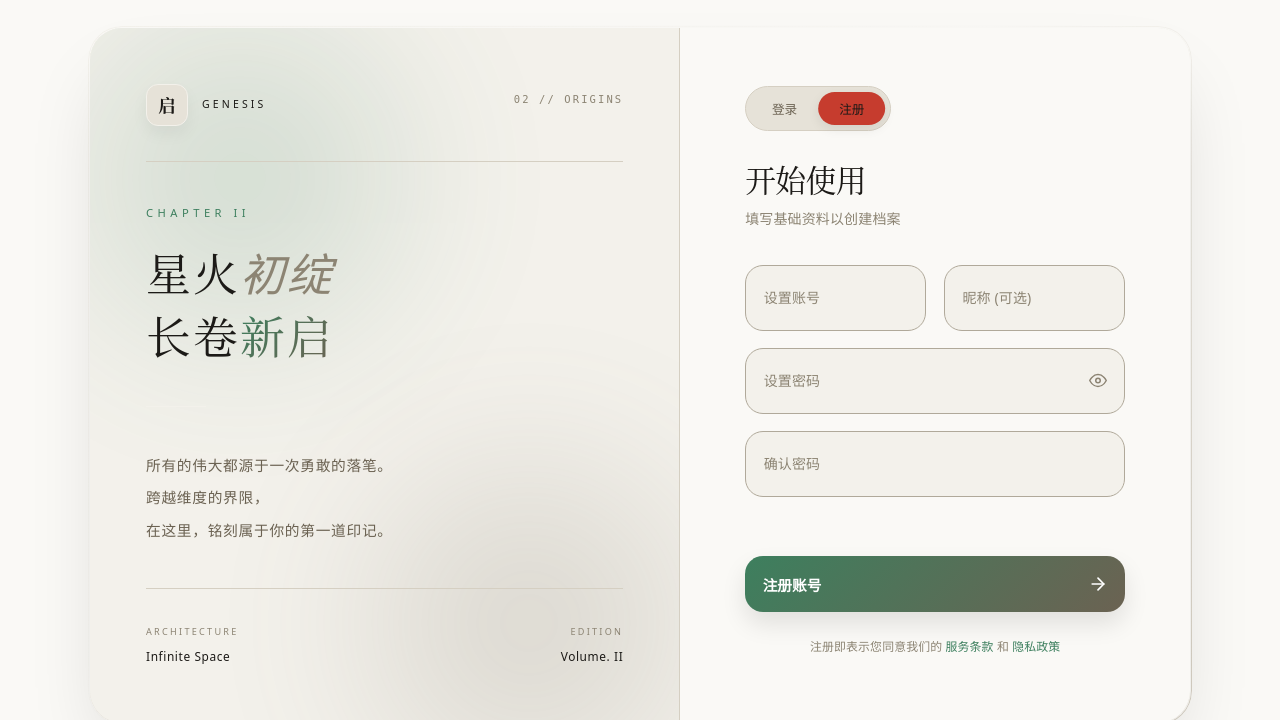
RegisterForm › surfaces the classified server message when registration fails
Type "alice" into the field next to "设置账号" at (836, 298), box [764,277,908,319]
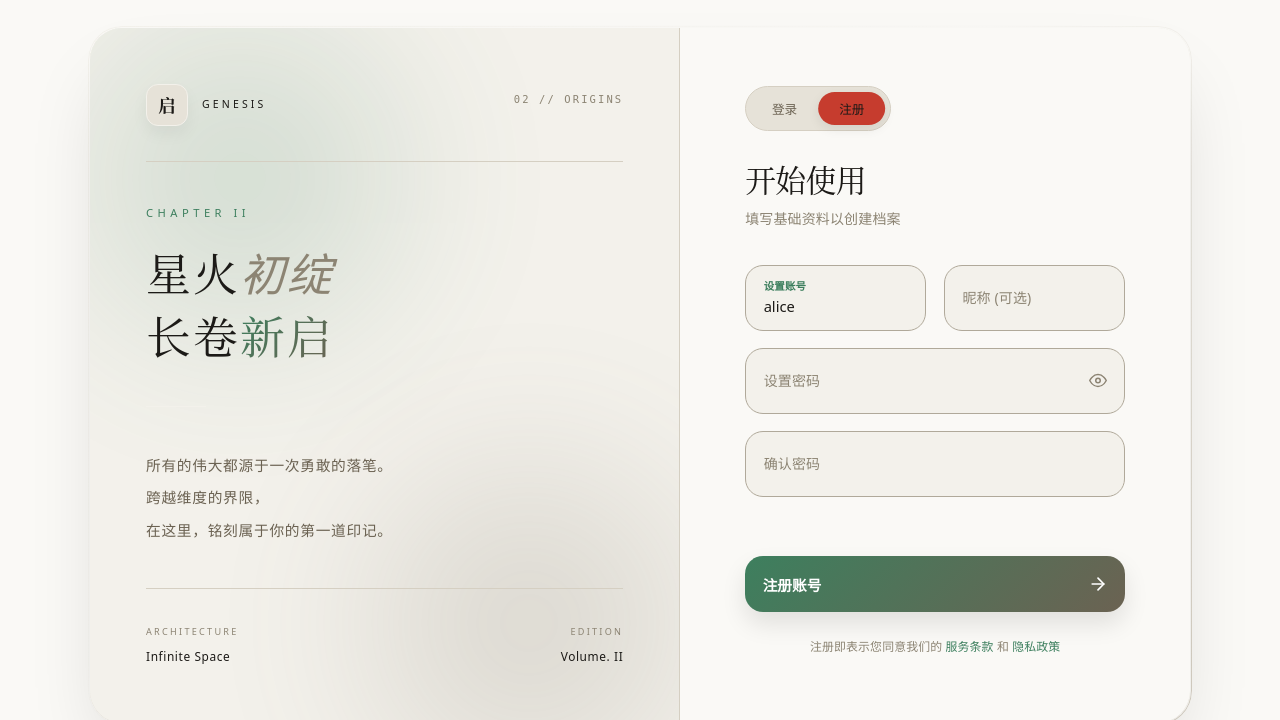
Type "password123" into the password field next to "设置密码" at (935, 381), box [764,360,1107,402]
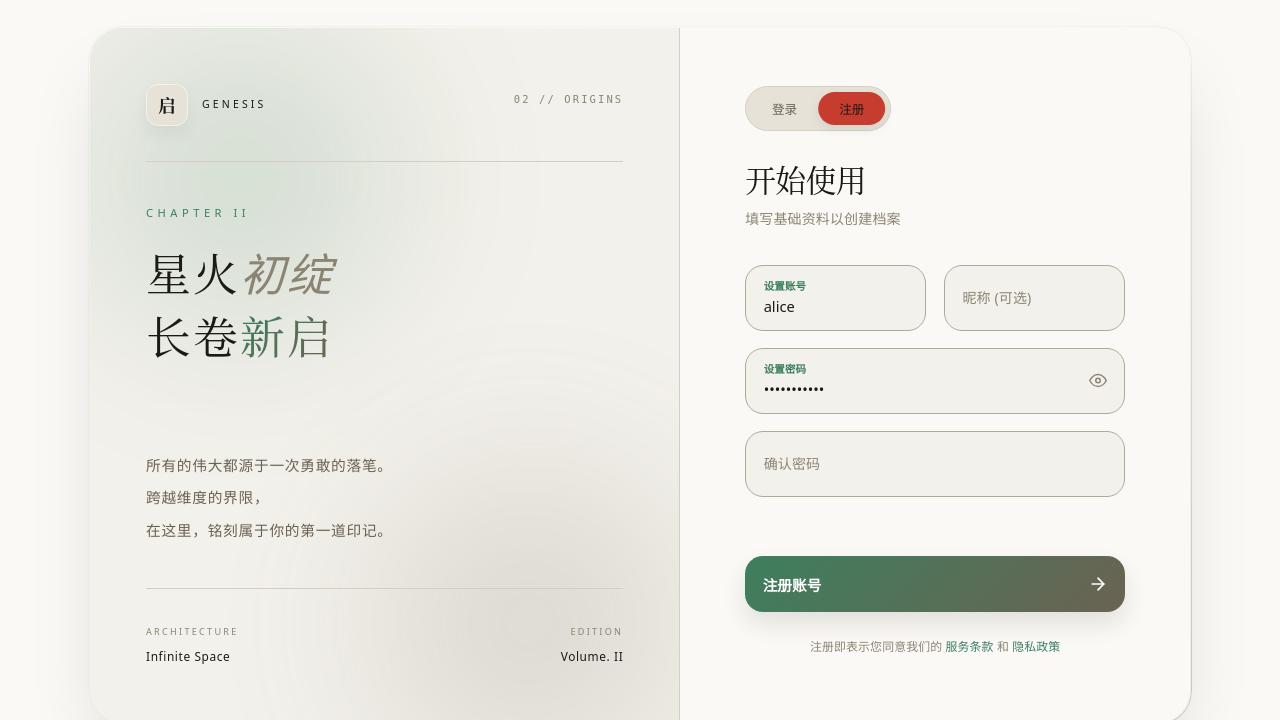
Type "password123" into the password field next to "确认密码" at (935, 464), box [764,443,1107,485]
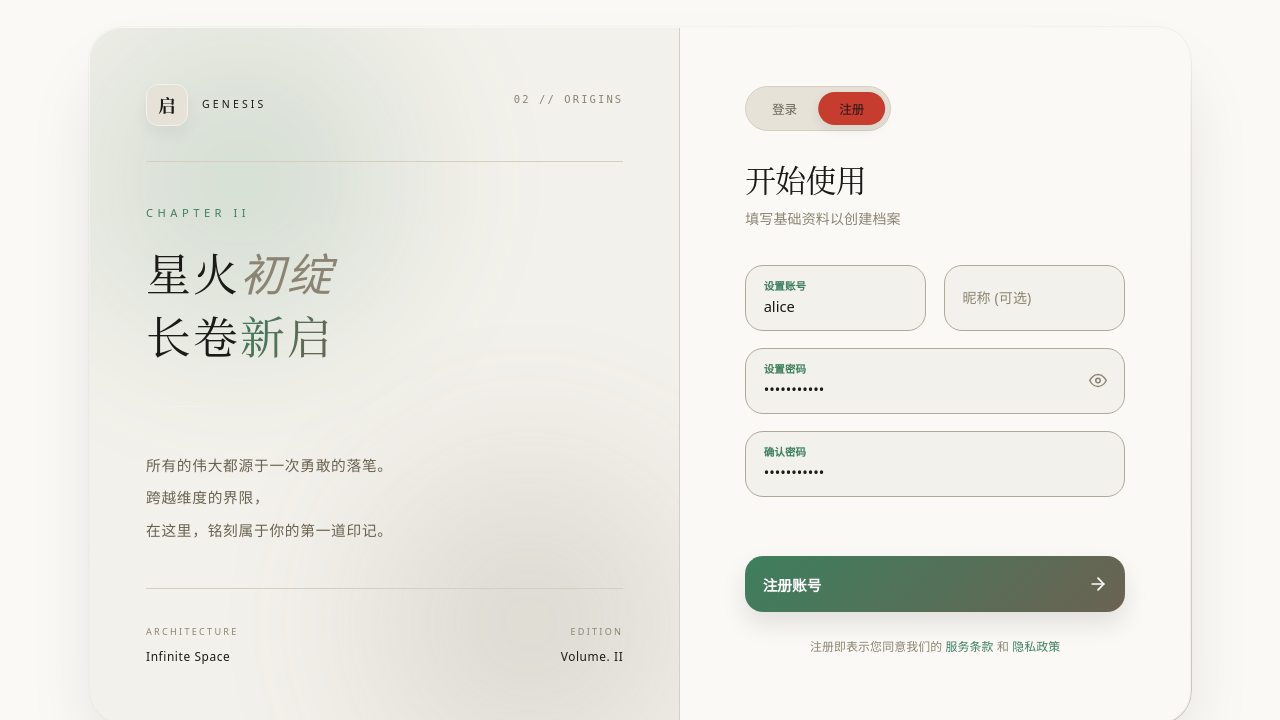
Submit the form, box [745,265,1125,665]
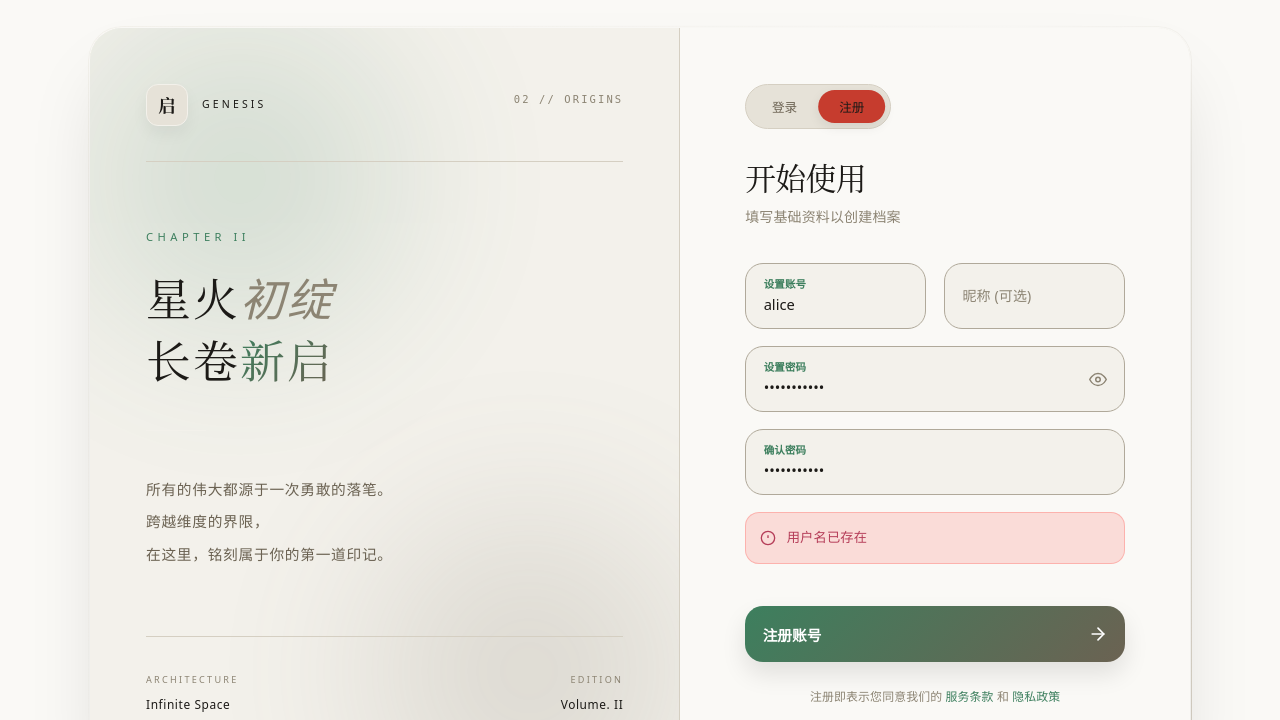
Expected: the element with class "error-banner" reads "用户名已存在", [787,528,867,546]
